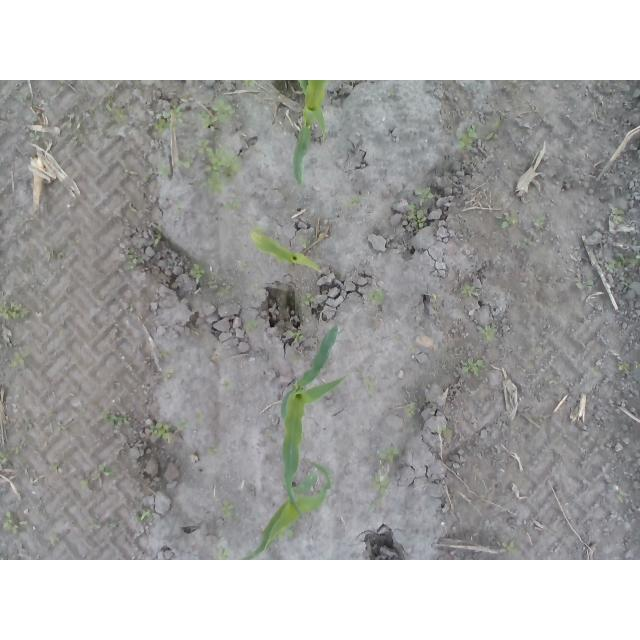Maize: (278, 326, 347, 518), (236, 460, 331, 560), (292, 80, 326, 186), (251, 230, 326, 274)
Weeds: (199, 138, 242, 194), (367, 446, 402, 513), (199, 94, 235, 131), (153, 103, 188, 134), (101, 96, 131, 124), (462, 348, 491, 376), (404, 202, 429, 233), (16, 95, 49, 115), (145, 423, 175, 444), (1, 510, 32, 530), (0, 302, 32, 321), (455, 126, 478, 152), (607, 254, 640, 272), (99, 410, 129, 427), (8, 350, 33, 370), (408, 186, 434, 205), (175, 143, 193, 169), (223, 498, 241, 522), (63, 111, 84, 131), (127, 244, 142, 272), (497, 211, 519, 230), (496, 539, 520, 555), (479, 325, 498, 344), (222, 197, 242, 215), (461, 281, 482, 298), (44, 245, 65, 261), (190, 262, 206, 282), (344, 196, 368, 209), (368, 287, 384, 305), (300, 292, 318, 308), (286, 329, 306, 343), (617, 359, 640, 370), (214, 546, 232, 560), (361, 375, 375, 393), (160, 159, 172, 179), (137, 509, 154, 523), (404, 402, 418, 419), (96, 463, 113, 477), (612, 208, 625, 225), (544, 373, 561, 386), (176, 417, 192, 430), (194, 408, 207, 424), (215, 285, 233, 296), (22, 214, 39, 225), (1, 452, 12, 468), (576, 279, 592, 290), (29, 132, 43, 144), (527, 344, 545, 353), (163, 369, 175, 382), (47, 534, 59, 547), (85, 103, 98, 115), (483, 131, 497, 142), (49, 463, 64, 473), (223, 379, 233, 394), (244, 320, 259, 330), (153, 224, 162, 240), (531, 215, 545, 225), (439, 427, 449, 441), (240, 80, 257, 88), (239, 257, 248, 272), (80, 479, 92, 490), (623, 279, 635, 290), (390, 335, 402, 346), (518, 238, 531, 248), (24, 416, 32, 432), (299, 239, 310, 250), (71, 239, 82, 250), (208, 447, 220, 457), (56, 421, 66, 433), (429, 293, 439, 304), (591, 367, 601, 378), (407, 343, 418, 353), (31, 115, 40, 126), (16, 447, 25, 458), (159, 350, 169, 359), (388, 88, 397, 97), (534, 416, 543, 425), (493, 119, 501, 129), (616, 493, 624, 503)
